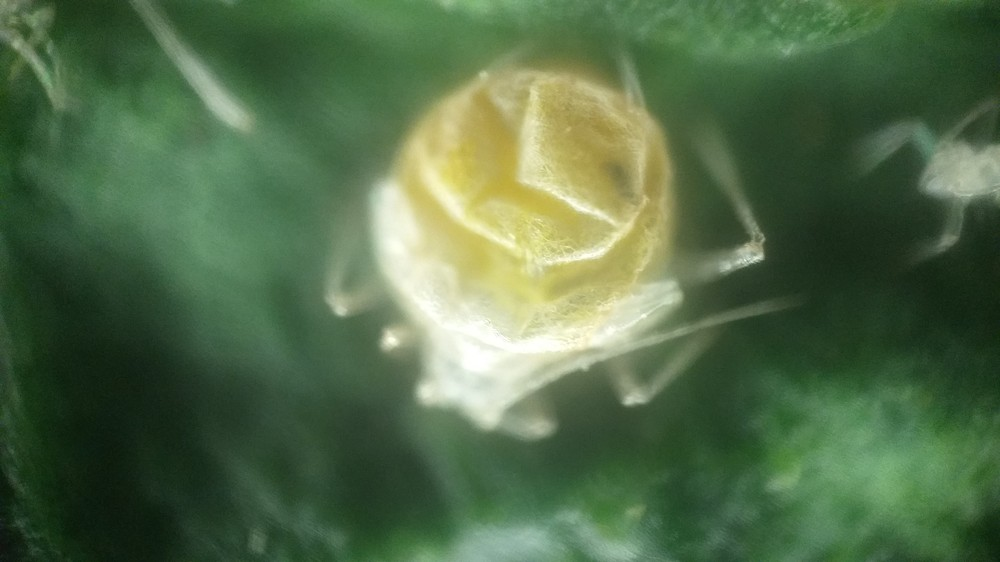Pulgon: (319, 35, 795, 442)
